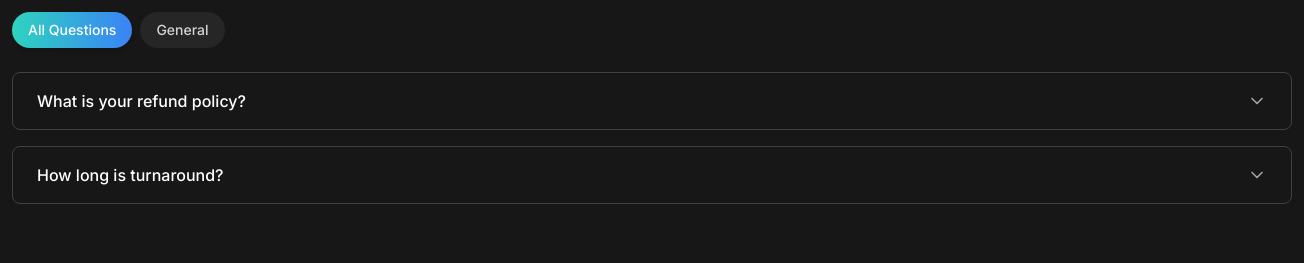
Scenario: EnhancedFaq › renders FAQ questions and allows expanding answers
Expected: the text "What is your refund policy?" is shown, top-left (37, 89), bottom-right (246, 113)
// Expand answer
Click the button "What is your refund policy?" at (141, 101), box top-left (13, 73), bottom-right (1291, 129)
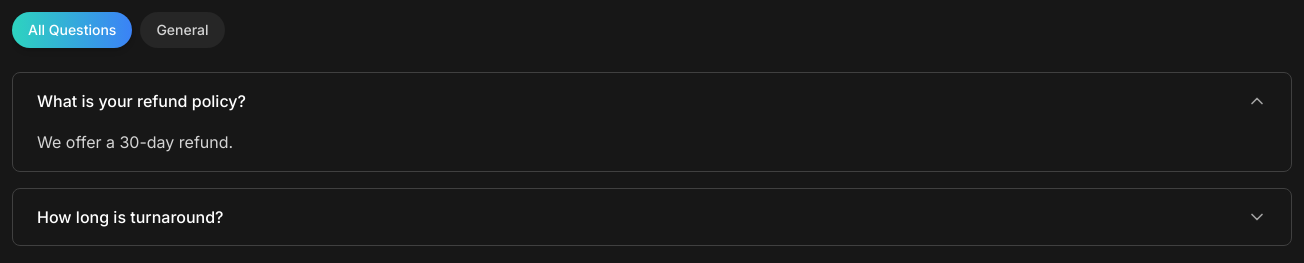
Expected: the text "We offer a 30-day refund." is shown, top-left (37, 132), bottom-right (233, 152)
